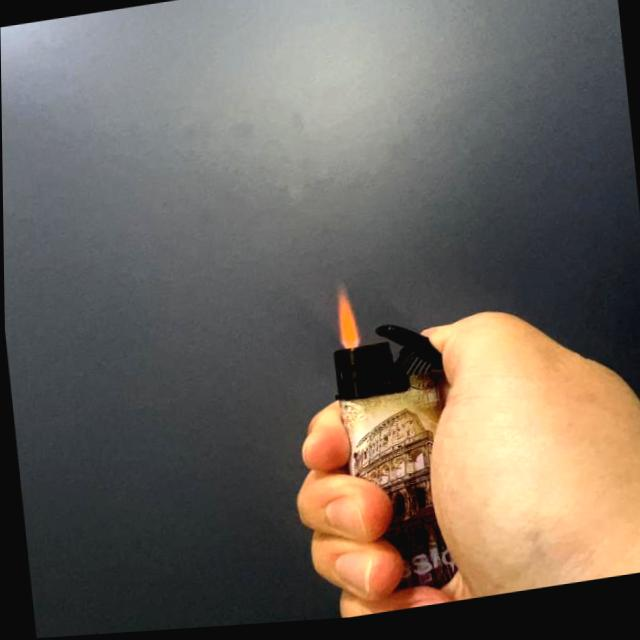Fire: (331, 288, 362, 357)
